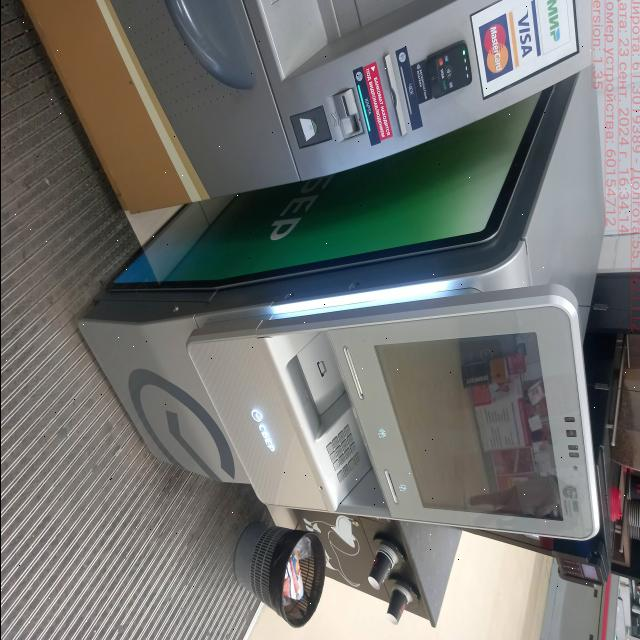bank: (73, 58, 605, 540)
